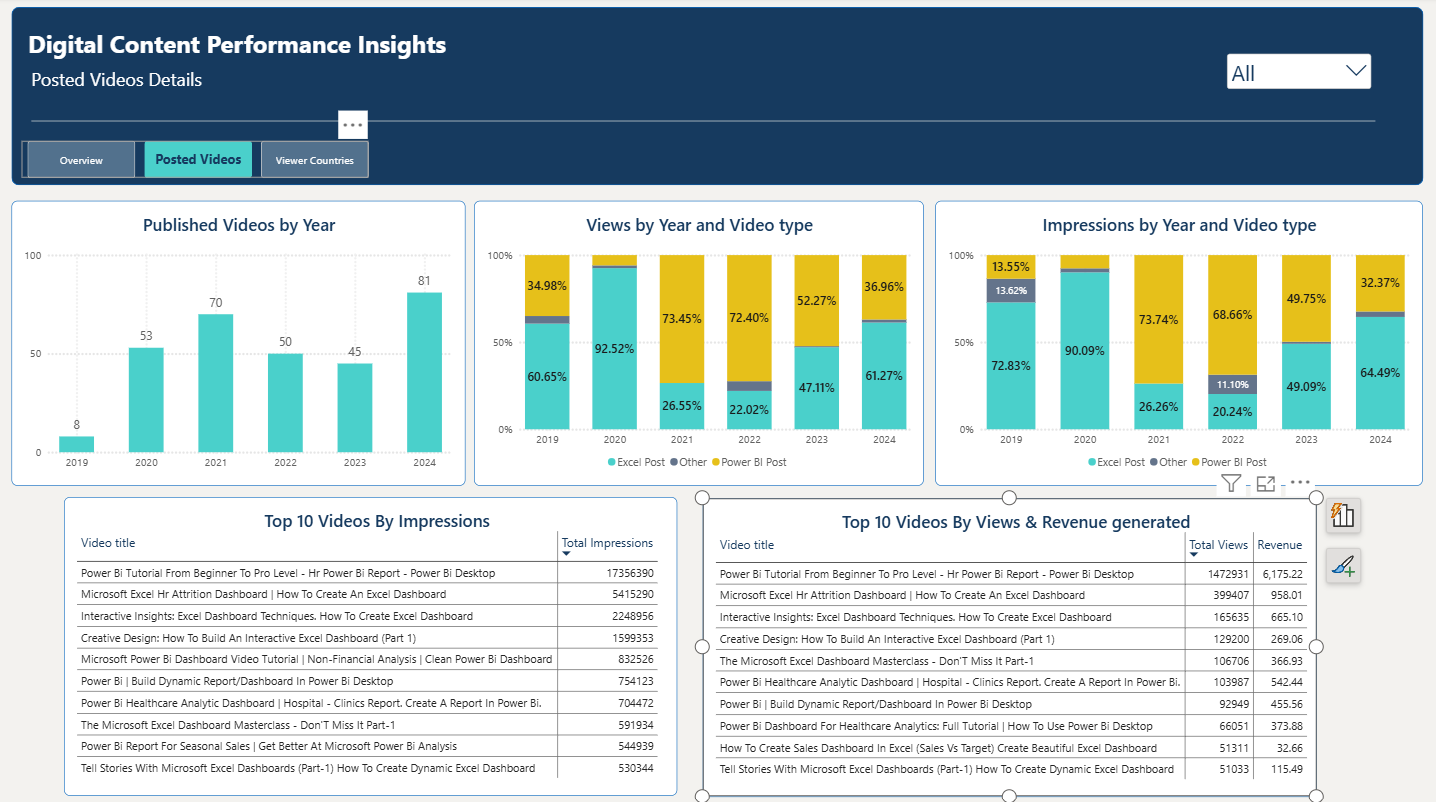

What the dashboard file says about the page in this screenshot:
{"tool":"powerbi","page":{"name":"Posted Videos","canvas":[1920,1080],"ordinal":1},"visuals":[{"type":"shape","box":[1619.7,39.3,231.1,109.8],"z":0},{"type":"shape","box":[16,14,1886,238],"z":1000},{"type":"textbox","box":[30,40,620,54],"z":2000},{"type":"textbox","title":"Header part 2","box":[30,94,620,74],"z":3000},{"type":"shape","title":"Header part","box":[42.6,141,1795.1,50.8],"z":4000},{"type":"hundredPercentStackedColumnChart","title":"Views by Year and Video type","fields":{"Category":["DateTable.Year"],"Series":["Video Posted.Video type"],"Y":["Measured Table.Total Views"]},"box":[634.5,272.2,601.1,380.7],"z":5000},{"type":"slicer","fields":{"Values":["DateTable.Year"]},"box":[1634,70,204,64],"z":6000},{"type":"hundredPercentStackedColumnChart","title":"Impressions by Year and Video type","fields":{"Category":["DateTable.Year"],"Series":["Video Posted.Video type"],"Y":["Measured Table.Total Impressions"]},"box":[1250.7,272.2,651.2,380.7],"z":7000},{"type":"tableEx","title":"Top 10 Videos By Impressions","fields":{"Values":["Video Posted.Video title","Measured Table.Total Impressions"]},"box":[86.8,667.9,819,399.1],"z":8000},{"type":"tableEx","title":" Top 10 Videos By Views & Revenue generated","fields":{"Values":["Video Posted.Video title","Measured Table.Total Views","Sum(Video Posted.Estimated revenue (USD))"]},"box":[940.1,669.6,819.9,399.1],"z":9000},{"type":"pageNavigator","box":[29.5,191.8,465.6,50.8],"z":10000},{"type":"clusteredColumnChart","title":"Published Videos by Year","fields":{"Category":["DateTable.Year"],"Y":["Measured Table.Number of Videos"]},"box":[16.7,272.2,606.1,380.7],"z":10001}]}

Visuals, with their boxes in screenshot pixels (x1, y1, x2, y2), scaled from the page's 1920x1080 canvas onto the 1436x802 screenshot:
shape: 1211/29/1384/111
shape: 12/10/1423/187
textbox: 22/30/486/70
"Header part 2" textbox: 22/70/486/125
"Header part" shape: 32/105/1374/142
"Views by Year and Video type" hundredPercentStackedColumnChart: 475/202/924/485
slicer - DateTable.Year: 1222/52/1375/100
"Impressions by Year and Video type" hundredPercentStackedColumnChart: 935/202/1422/485
"Top 10 Videos By Impressions" tableEx: 65/496/677/792
" Top 10 Videos By Views & Revenue generated" tableEx: 703/497/1316/794
pageNavigator: 22/142/370/180
"Published Videos by Year" clusteredColumnChart: 12/202/466/485
